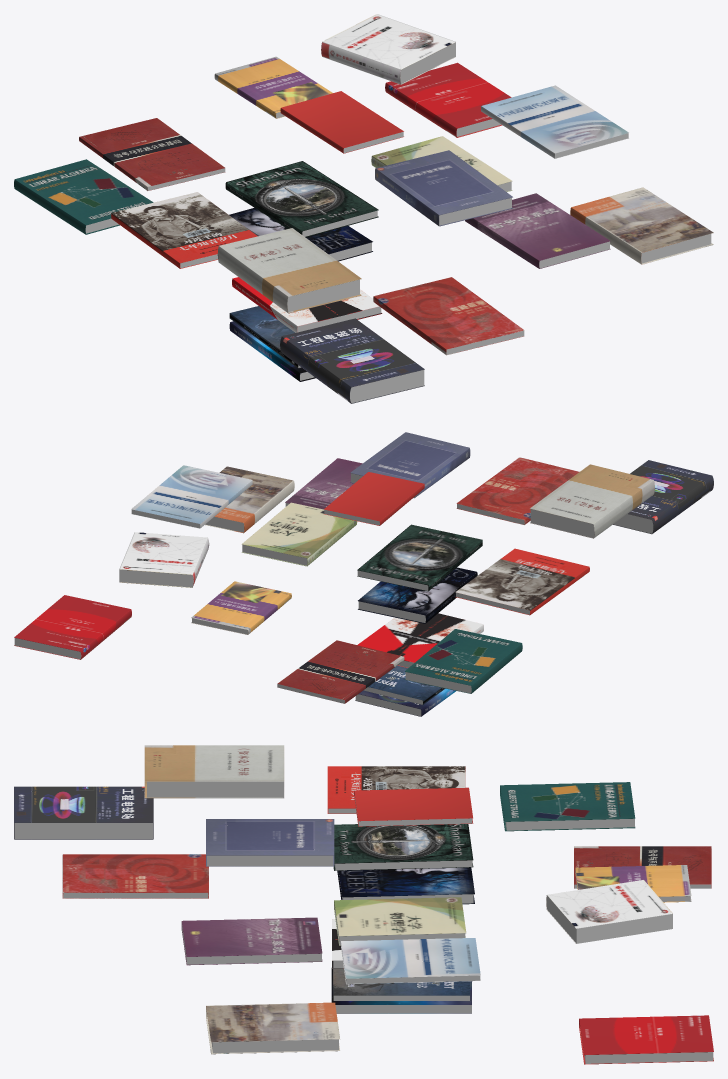
The model's file is 各种书籍.fbx.
3 views of the same model, one above another, from view 1: azimuth 30°, elevation 25°; view 2: azimuth 150°, elevation 25°; view 3: azimuth 270°, elevation 25° (orthographic). The views are drawn at different scales.
Parts seen in each view (by area): view 1: Plane.024, Plane.029, Plane.026, Plane.030, Cube.010, Plane.020, Plane.027, Plane.023, Plane.025, Cube.008, Plane.032, Cube.011 (+9 smaller); view 2: Plane.029, Plane.020, Plane.026, Plane.032, Plane.015, Plane.027, Plane.033, Cube.008, Plane.023, Cube.010, Cube.011, Plane.024 (+8 smaller); view 3: Plane.029, Plane.024, Plane.030, Plane.025, Plane.032, Plane.026, Plane.015, Plane.027, Cube.010, Plane.023, Plane.033, Cube.011 (+9 smaller).
Part boxes in pixels (x1=…): Plane.024: x1=280, y1=318, x2=424, y2=403; Plane.029: x1=217, y1=228, x2=361, y2=313; Plane.026: x1=225, y1=161, x2=378, y2=237; Plane.030: x1=570, y1=187, x2=713, y2=264; Cube.010: x1=373, y1=277, x2=524, y2=355; Plane.020: x1=111, y1=192, x2=257, y2=268; Plane.027: x1=481, y1=85, x2=628, y2=158; Plane.023: x1=321, y1=14, x2=455, y2=84; Plane.025: x1=465, y1=193, x2=610, y2=268; Cube.008: x1=79, y1=118, x2=225, y2=190; Plane.032: x1=14, y1=159, x2=153, y2=234; Cube.011: x1=375, y1=150, x2=513, y2=226; Plane.029: x1=530, y1=464, x2=654, y2=538; Plane.020: x1=455, y1=548, x2=589, y2=615; Plane.026: x1=357, y1=524, x2=482, y2=591; Plane.032: x1=404, y1=629, x2=522, y2=693; Plane.015: x1=14, y1=595, x2=131, y2=659; Plane.027: x1=131, y1=465, x2=252, y2=528; Plane.033: x1=241, y1=502, x2=357, y2=566; Cube.008: x1=277, y1=640, x2=404, y2=703; Plane.023: x1=119, y1=532, x2=209, y2=587; Cube.010: x1=456, y1=457, x2=579, y2=524; Cube.011: x1=350, y1=432, x2=470, y2=498; Plane.024: x1=613, y1=460, x2=713, y2=534; Plane.029: x1=144, y1=745, x2=284, y2=798; Plane.024: x1=14, y1=786, x2=153, y2=839; Plane.030: x1=206, y1=1002, x2=339, y2=1054; Plane.025: x1=181, y1=917, x2=322, y2=965; Plane.032: x1=500, y1=782, x2=635, y2=831; Plane.026: x1=333, y1=824, x2=473, y2=870; Plane.015: x1=579, y1=1015, x2=713, y2=1064; Plane.027: x1=341, y1=938, x2=480, y2=984; Cube.010: x1=62, y1=854, x2=208, y2=898; Plane.023: x1=546, y1=880, x2=672, y2=943; Plane.033: x1=334, y1=897, x2=466, y2=945; Cube.011: x1=206, y1=819, x2=334, y2=866.
Bounding box in the file's own units: 107 × 43.99 × 131.
